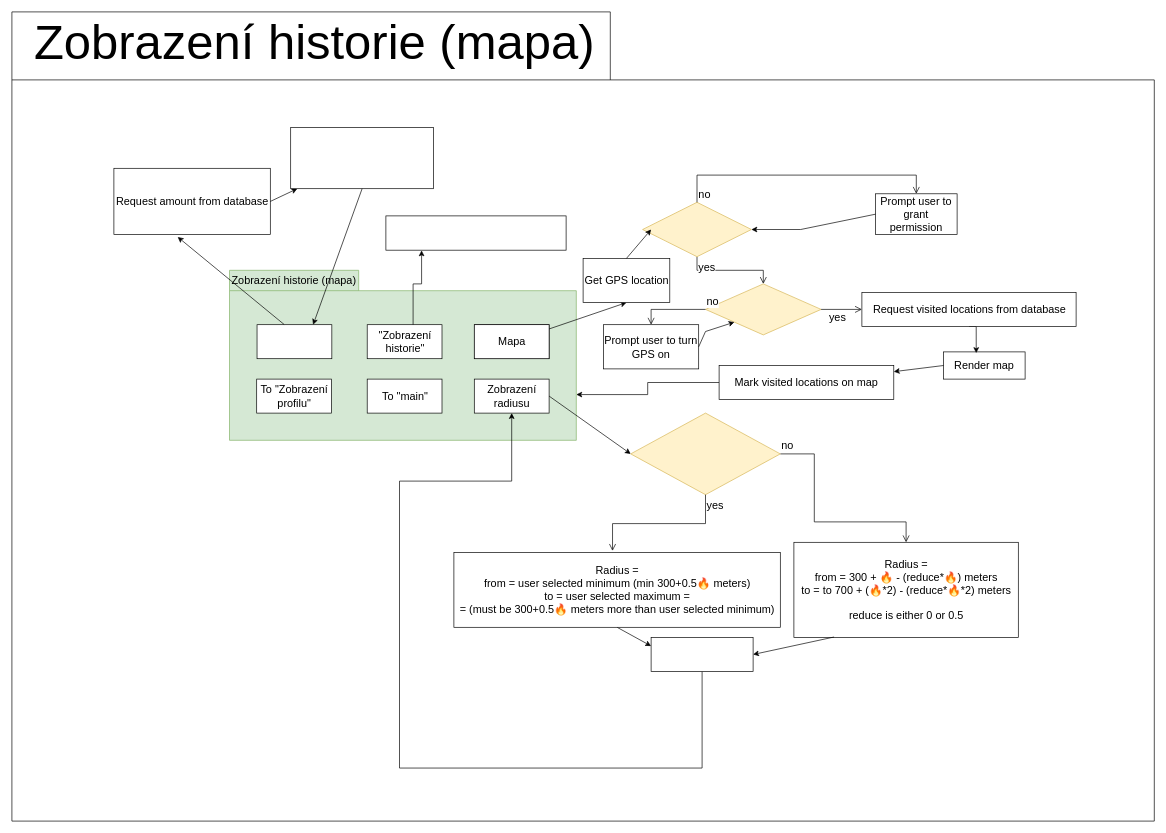
The diagram is 1166 pixels wide and 833 high, and some of its shapes have lost their labels. The shapes that lost their labels are listed below. From the top down, each one's box as (x1, y1, x2, y2) in pixels, then its label:
(290, 127, 434, 189): Display the amount of "🔥️"
(385, 215, 566, 250): Switch to "Zobrazení historie (fotografie)"
(642, 202, 751, 257): User granted permission
(705, 283, 821, 335): GPS location is on
(256, 324, 332, 359): Zobrazení "🔥️"
(630, 412, 780, 495): User has inputted the radius
(650, 637, 753, 672): Display Radius
